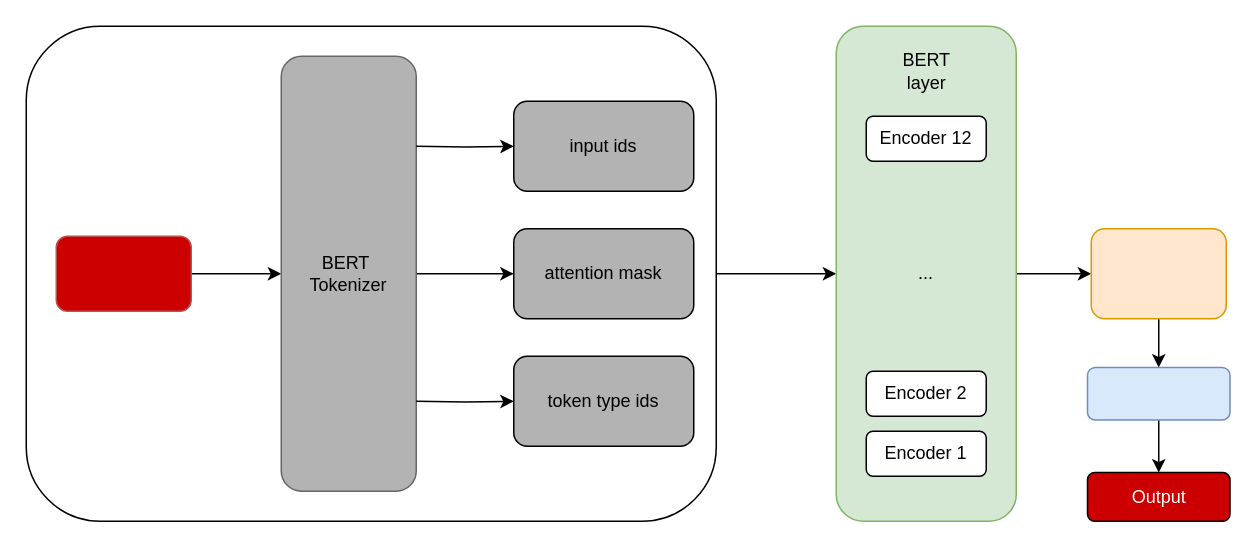
This 1257x548 diagram has some shape labels left out. The shapes that lost their labels are listed below. From the top down, each one's centre as x and y in pixels, then its label:
At (123,273): "Review text".
At (1158,273): "Fully connected layer".
At (1158,393): "Sigmoid".
